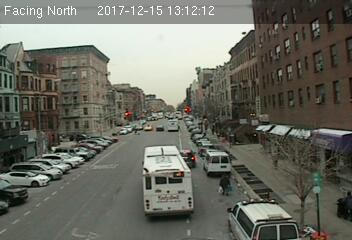bus: (141, 145, 195, 216)
car: (179, 150, 196, 167)
pedestrian: (218, 172, 232, 196)
police: (225, 197, 300, 240)
truck: (204, 151, 231, 175), (167, 120, 178, 131)
